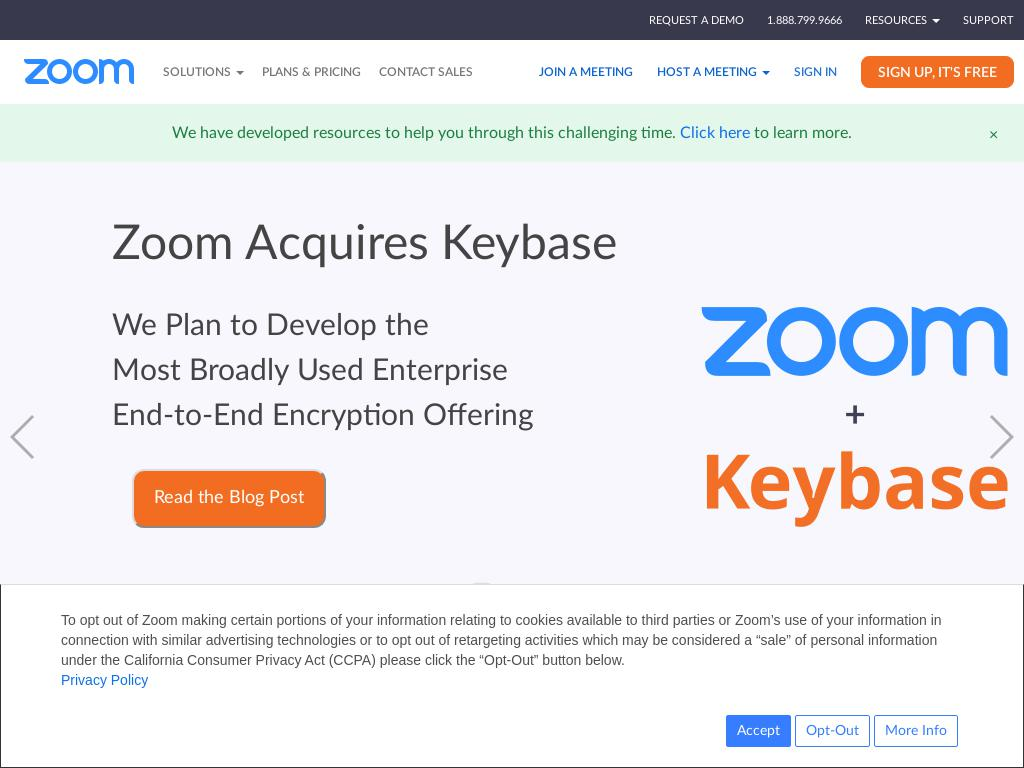button: (132, 469, 326, 528), (253, 40, 370, 104), (370, 40, 482, 104), (530, 40, 642, 104), (154, 40, 253, 104), (864, 702, 984, 748), (861, 55, 1014, 88), (785, 40, 846, 104), (944, 688, 1000, 744), (112, 492, 326, 506), (874, 715, 958, 747), (795, 715, 870, 747), (726, 715, 791, 747), (61, 670, 149, 690), (554, 614, 579, 644), (983, 125, 1004, 145), (0, 0, 12, 12)
heading: (112, 214, 652, 274)
image: (0, 104, 1024, 768), (24, 59, 134, 84), (954, 698, 990, 734), (10, 415, 37, 459), (987, 415, 1014, 459), (554, 614, 579, 638), (476, 619, 490, 633), (501, 619, 515, 633), (526, 619, 540, 633)
link: (680, 125, 750, 141), (649, 15, 744, 26), (767, 15, 842, 26), (963, 15, 1014, 26)
text: (0, 104, 1024, 768), (150, 680, 864, 768), (61, 612, 942, 668), (112, 401, 534, 431), (112, 356, 508, 386), (112, 311, 429, 341), (172, 125, 680, 141), (750, 125, 852, 141), (657, 66, 760, 78), (163, 66, 234, 78), (865, 15, 930, 26)
